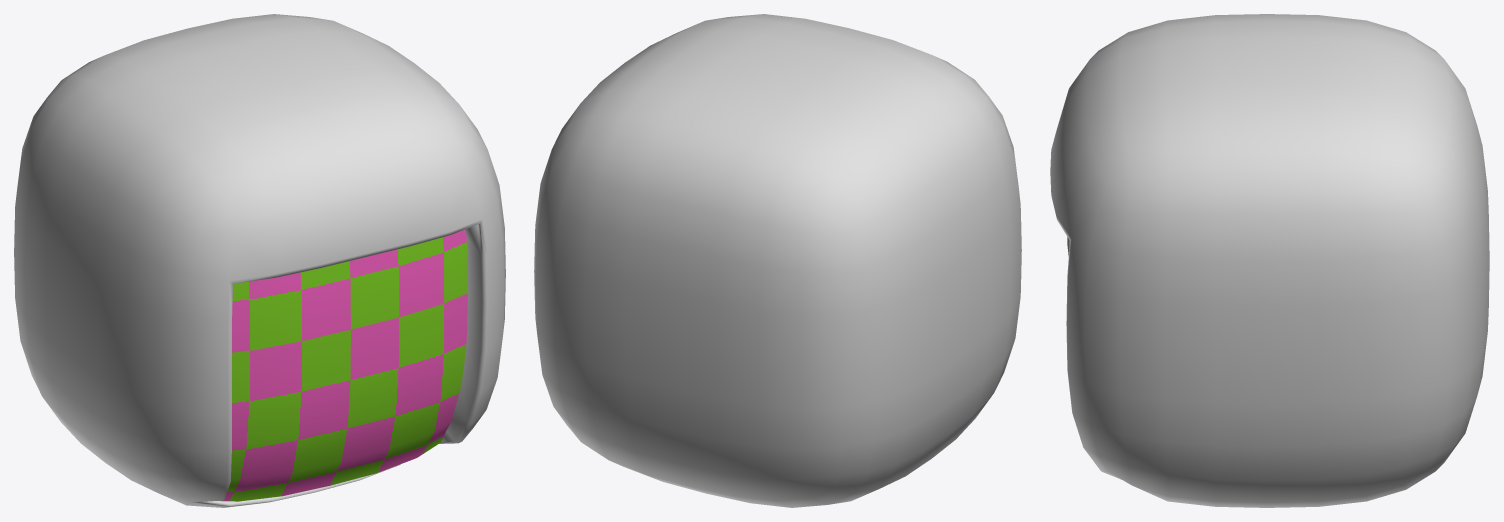
The model's file is helmet_head.fbx.
3 renders of one model, left to right at view 1: azimuth 30°, elevation 25°; view 2: azimuth 150°, elevation 25°; view 3: azimuth 270°, elevation 25°, orthographic. The views are drawn at different scales.
Visible parts, largest first — view 1: head, face; view 2: head; view 3: head.
Boxes of the visible parts, x1,y1,x2,y2 form: head: [14, 14, 505, 507]; face: [218, 229, 467, 501]; head: [534, 14, 1021, 507]; head: [1050, 14, 1489, 507].
Size of the model in its own units: 1.93 by 1.93 by 1.9.
1 material, 1 textured.
